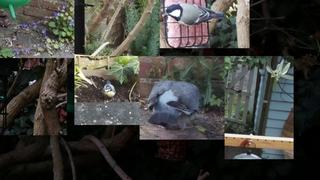blue tit: (101, 80, 116, 102)
great tit: (162, 3, 226, 26)
wood pigeon: (147, 80, 201, 131)
